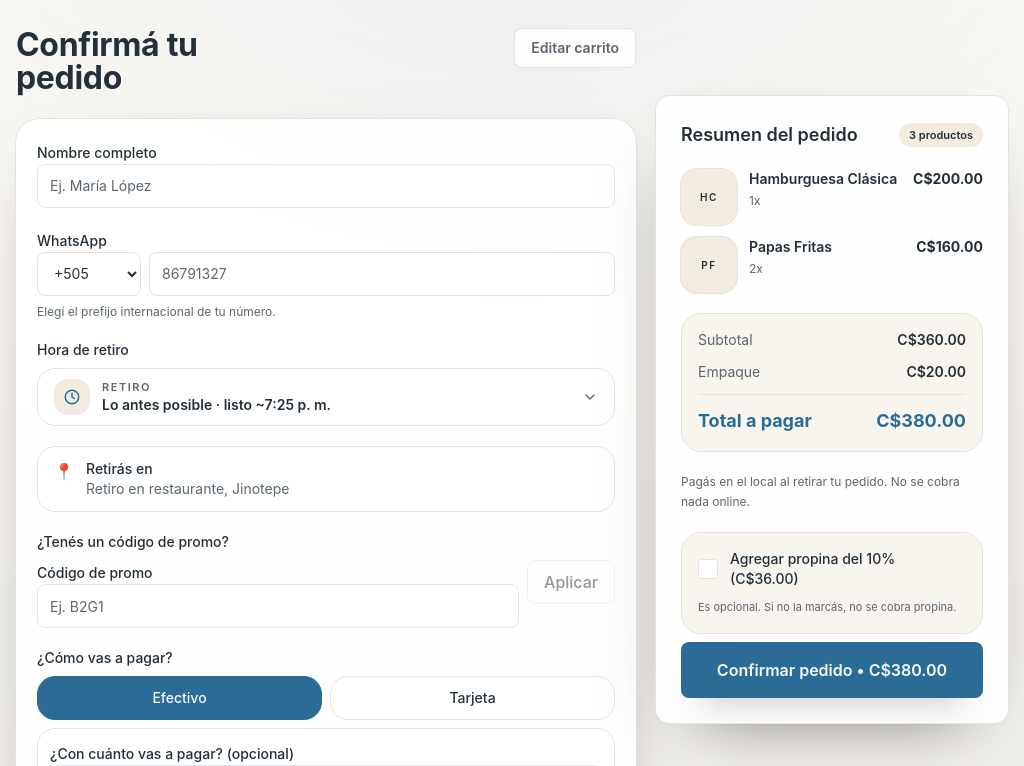
Test: checkout sin redundancias › al tocar con datos faltantes señala el campo, lo enfoca y muestra un solo aviso
This screenshot has width=1024, height=766.
Click the button "Confirmar pedido • C$380.00": (832, 670) x1=681 y1=642 x2=983 y2=698
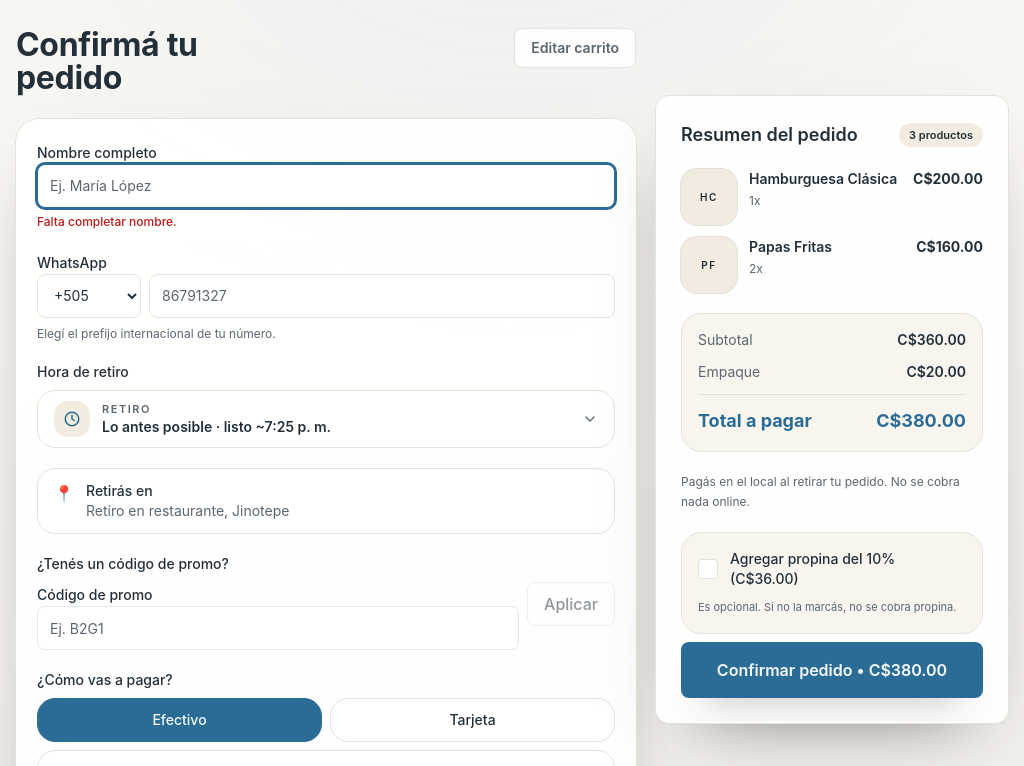
Expected: the text "Falta completar nombre." is shown once, x1=37 y1=214 x2=177 y2=228
